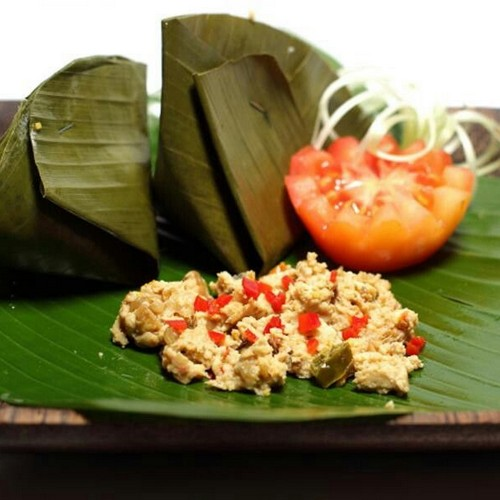tum ayam: (115, 256, 443, 403)
